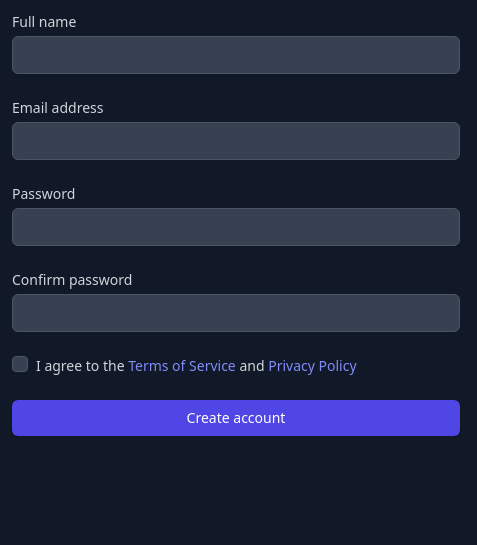
Test: RegisterForm › Form Validation › validates password requirements
Step 1. Type "John Doe" into the field with id "name" → (236, 55), box [12, 36, 460, 74]
Step 2. Type "john@example.com" into the field with id "email" → (236, 141), box [12, 122, 460, 160]
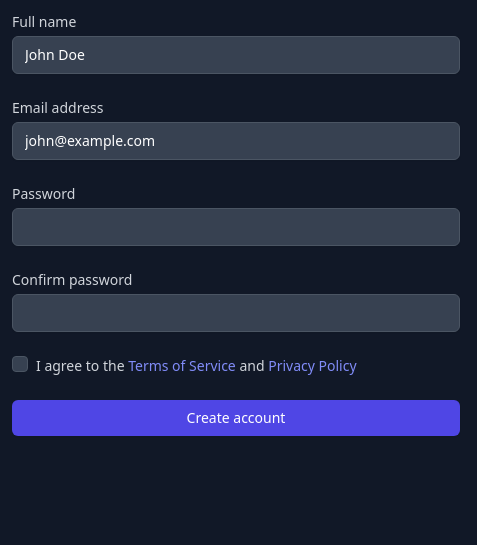
Step 3. Submit the form
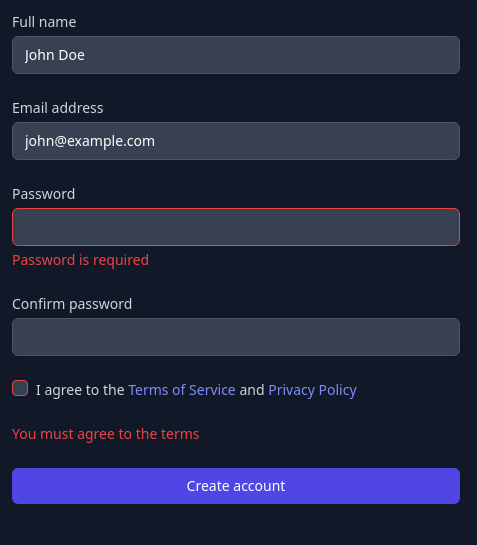
Expected: the text "Password is required" is shown, [12, 250, 149, 269]
# Test minimum length
Step 4. Type "short" into the password field labelled "Password" → (236, 227), box [12, 208, 460, 246]
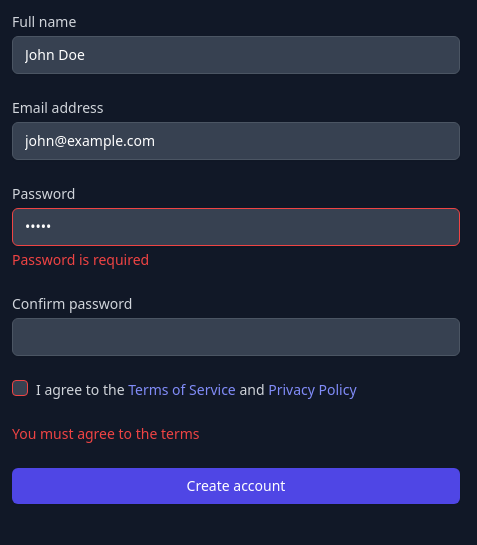
Step 5. Submit the form
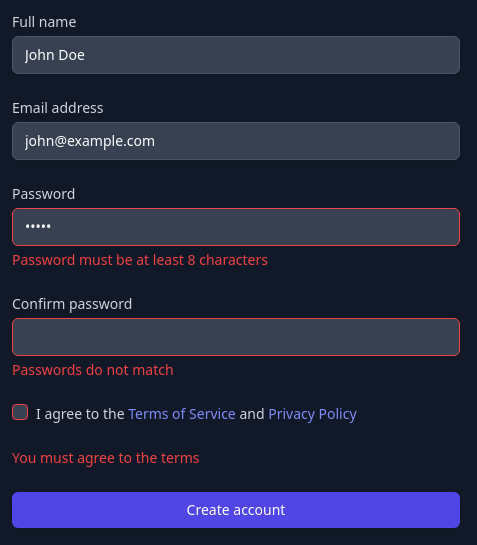
Expected: the text "Password must be at least 8 characters" is shown, [12, 250, 268, 269]
# Test complexity requirements
Step 6. Type "longenough" into the password field labelled "Password" → (236, 227), box [12, 208, 460, 246]
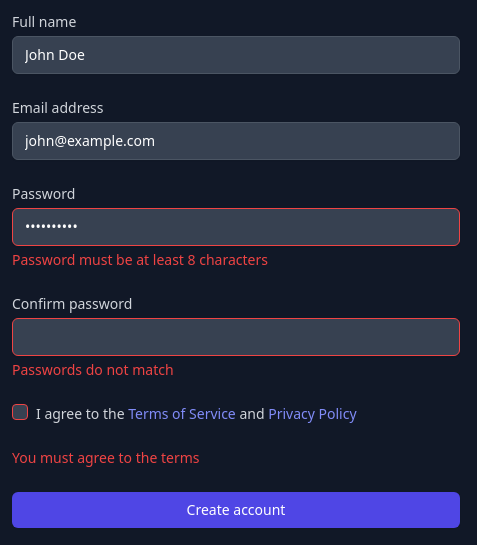
Step 7. Submit the form
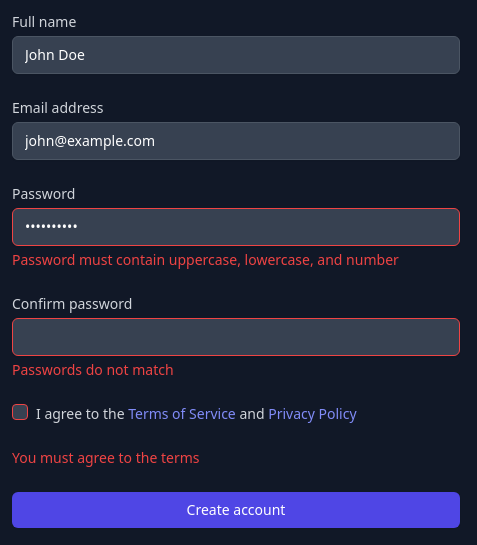
Expected: the text "Password must contain uppercase, lowercase, and number" is shown, [12, 250, 460, 270]
